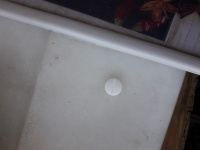Arveles: (104, 77, 122, 97)
